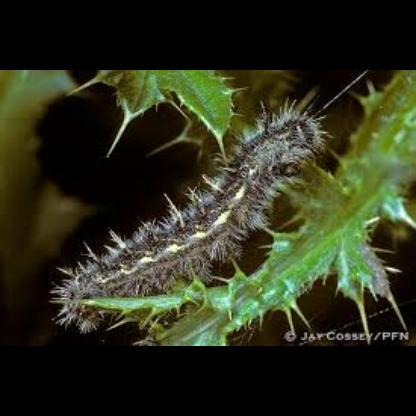oruga: (47, 102, 329, 338)
